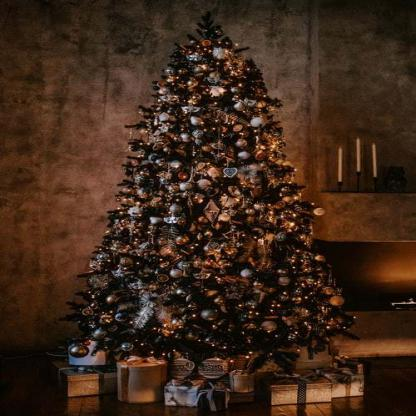present: (329, 361, 416, 416), (99, 346, 173, 393), (249, 375, 350, 409), (41, 350, 100, 391)
x_mas tree: (84, 4, 344, 360)
